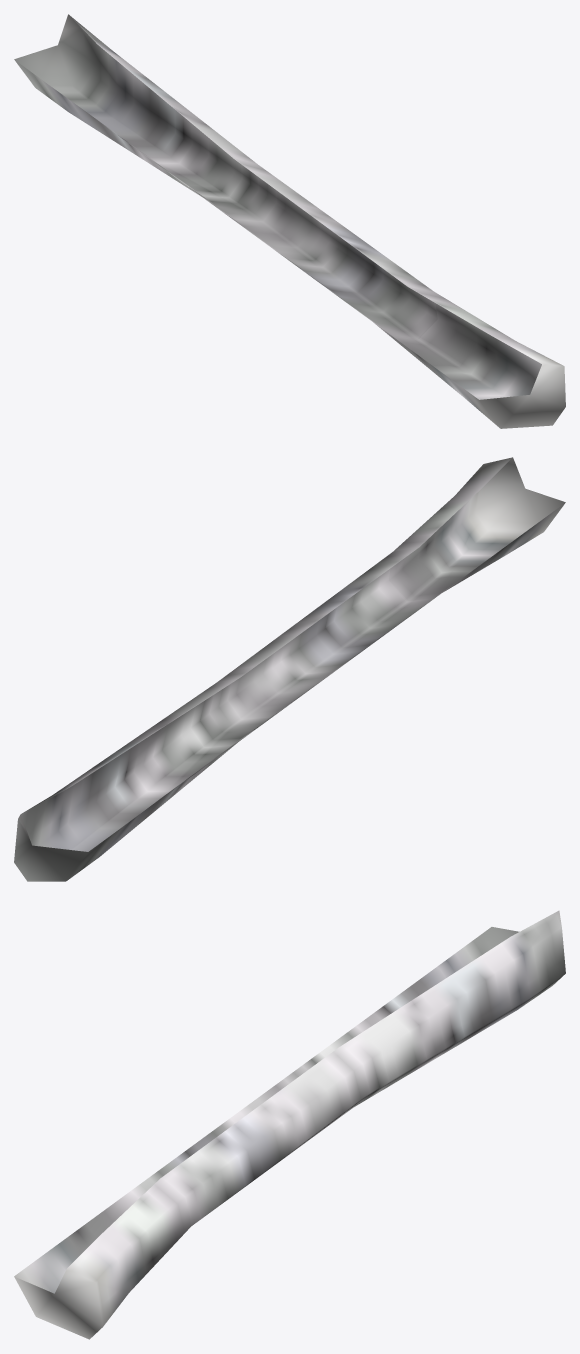
The picture shows the model from 3 angles, top to bottom: view 1: azimuth 30°, elevation 25°; view 2: azimuth 150°, elevation 25°; view 3: azimuth 330°, elevation 25°; orthographic projection. The views are drawn at different scales.
Parts seen in each view (by area): view 1: wg_r_c_u; view 2: wg_r_c_u; view 3: wg_r_c_u.
Boxes of the visible parts, box(x1,y1,x2,y2) form: wg_r_c_u: box(14, 14, 565, 428); wg_r_c_u: box(14, 457, 565, 881); wg_r_c_u: box(14, 910, 565, 1339).
Size of the model in its own units: 0.2215 by 0.1709 by 2.11.
Materials: 1 (1 with a texture image).
